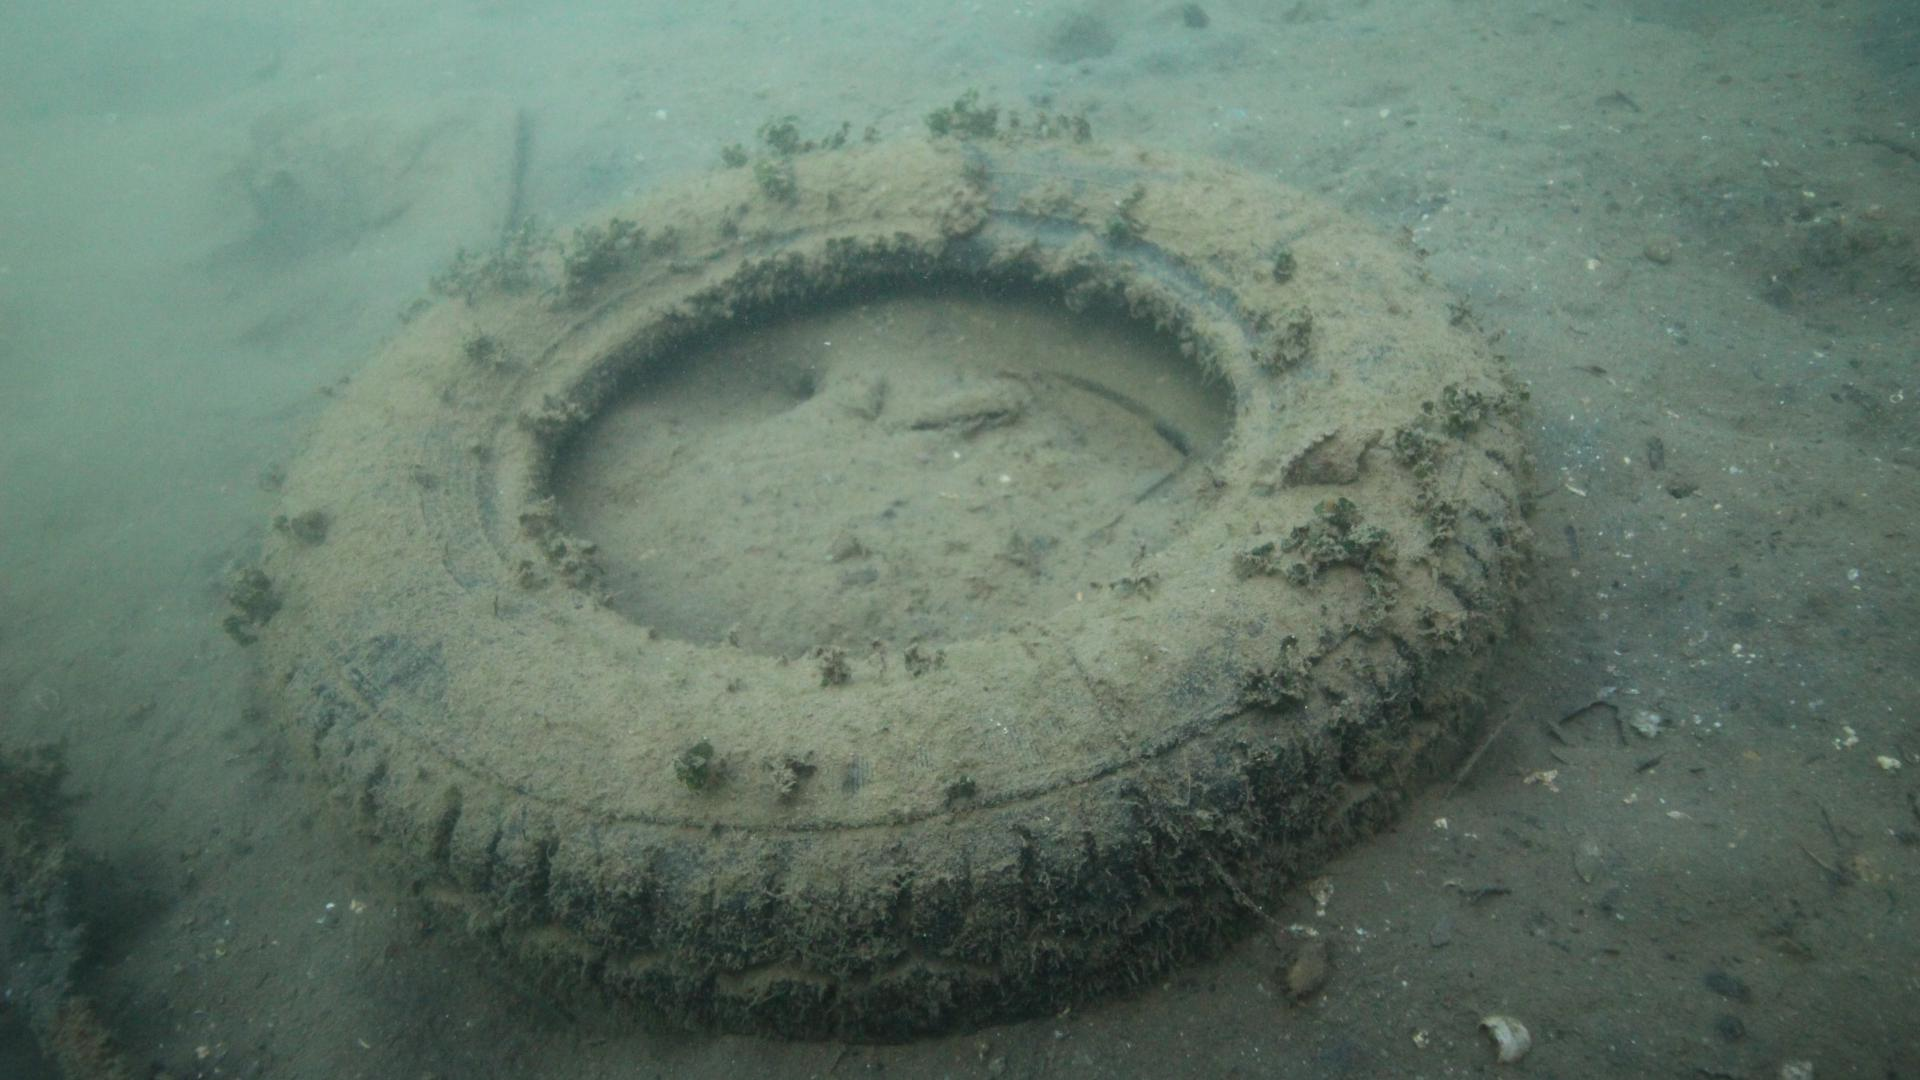tire: (255, 135, 1524, 1043)
